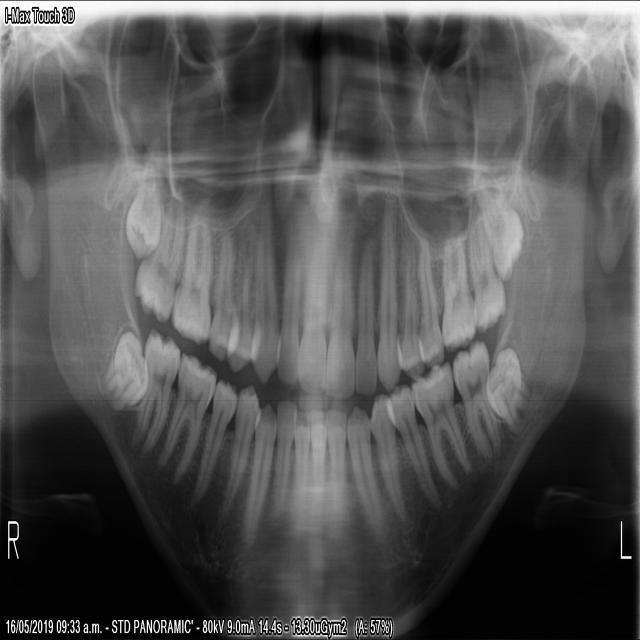LCD: (346, 407, 381, 533)
LCU: (376, 219, 402, 393)
LID: (326, 405, 348, 529), (308, 407, 327, 535)
LIU: (326, 207, 360, 402), (355, 218, 378, 399)
LMD: (414, 357, 472, 487), (451, 338, 505, 469), (480, 344, 531, 438)
LMU: (465, 199, 510, 332), (475, 180, 527, 282), (441, 218, 477, 351)
LPMD: (387, 379, 440, 515), (367, 388, 410, 526)
LPMU: (418, 224, 447, 363), (398, 226, 422, 379)
RCD: (240, 402, 277, 554)
RCU: (250, 193, 279, 388)
RID: (267, 396, 296, 518), (290, 404, 312, 522)
RIU: (298, 213, 335, 394), (275, 213, 304, 390)
RMD: (156, 352, 219, 482), (128, 330, 181, 457), (95, 329, 150, 418)
RMU: (128, 201, 187, 324), (170, 212, 211, 344), (121, 179, 165, 263)
RPMD: (215, 385, 261, 532), (189, 383, 240, 507)
RPMU: (228, 202, 254, 376), (209, 205, 235, 360)
